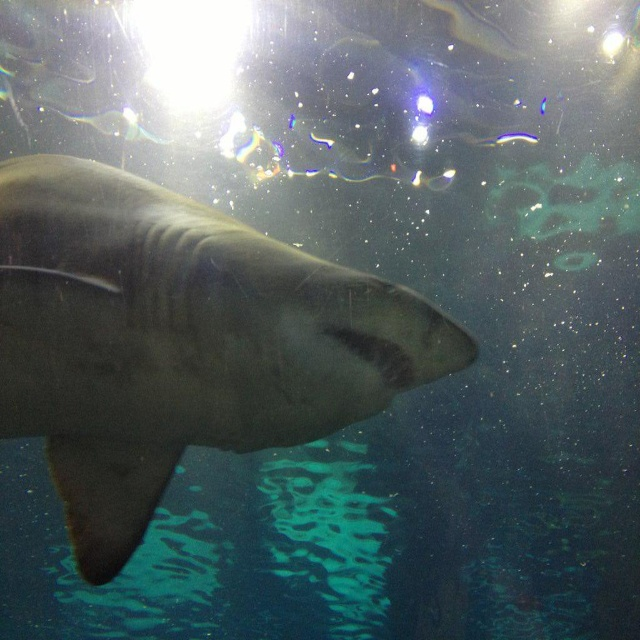Shark: (1, 154, 477, 586)
